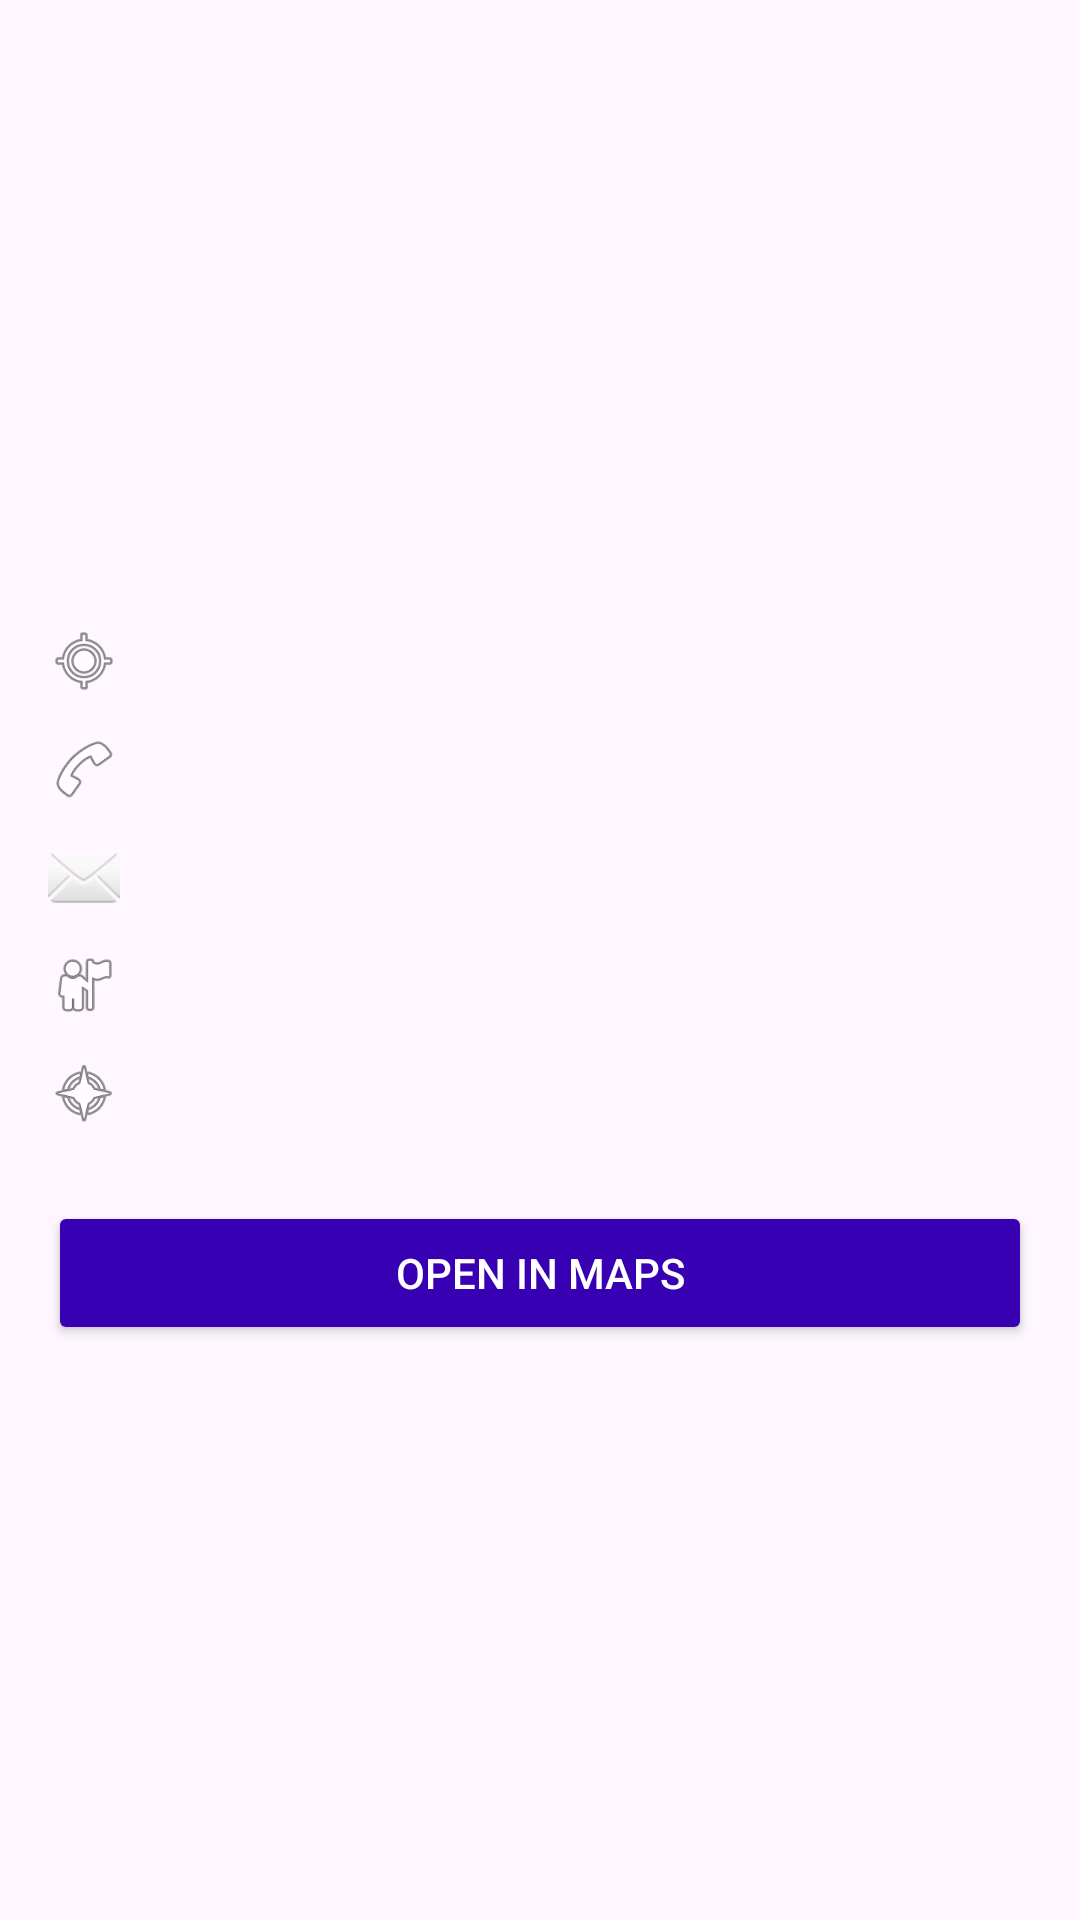

Icon click points for this 1080 × 1920 phone screenshot, format [x,y]:
call: [84,769]
compass: [83,1093]
email: [84,878]
mylocation: [84,661]
myplaces: [85,985]
